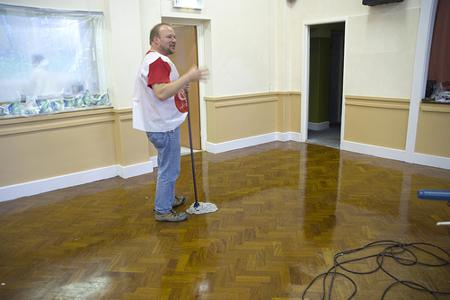person: (131, 24, 211, 225)
